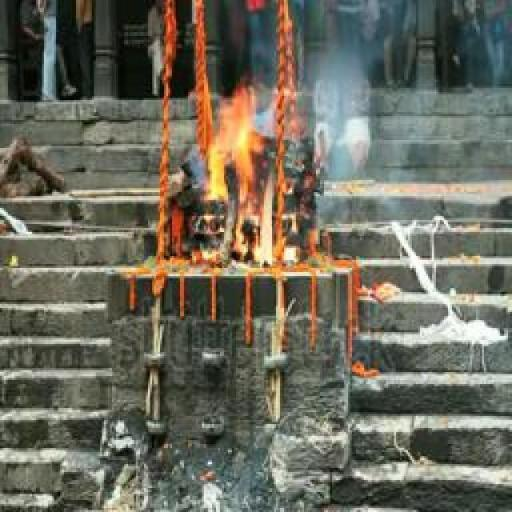smoke: (207, 81, 281, 264)
